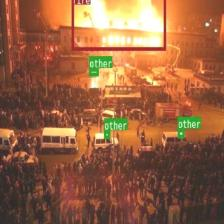fire: (71, 0, 166, 50)
